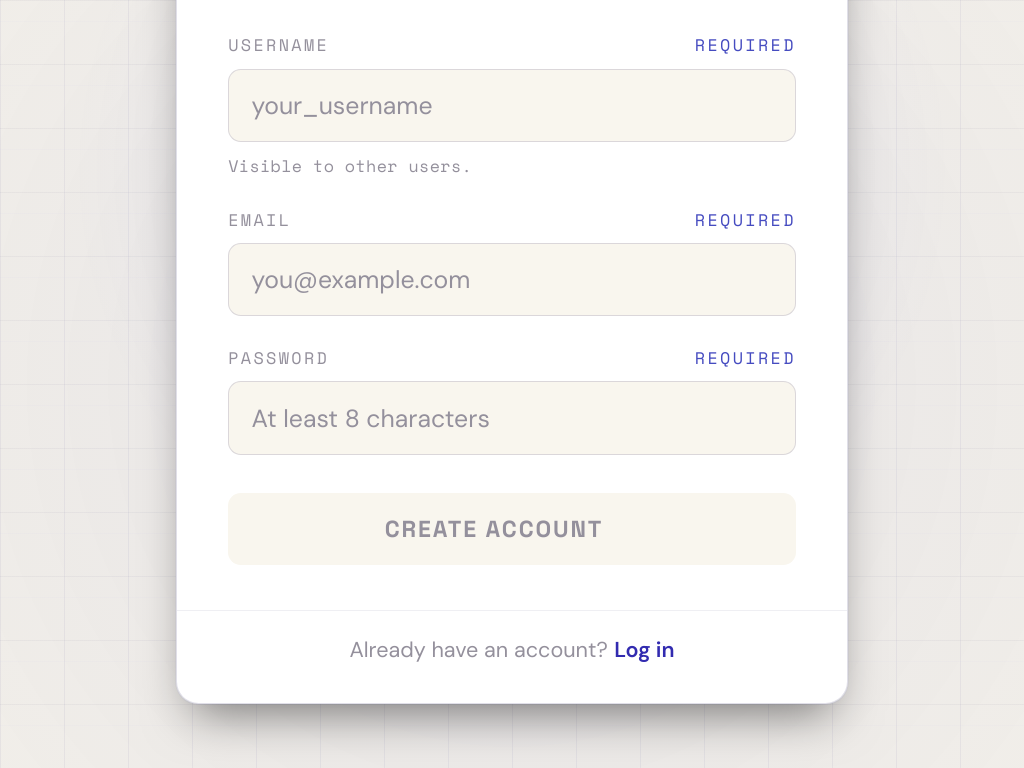
Test: shows Strong label for a strong password
This screenshot has width=1024, height=768.
(page scrolled)
In the password field with placeholder "At least 8 characters": (512, 418) [228, 382, 796, 455], type "Password1!"
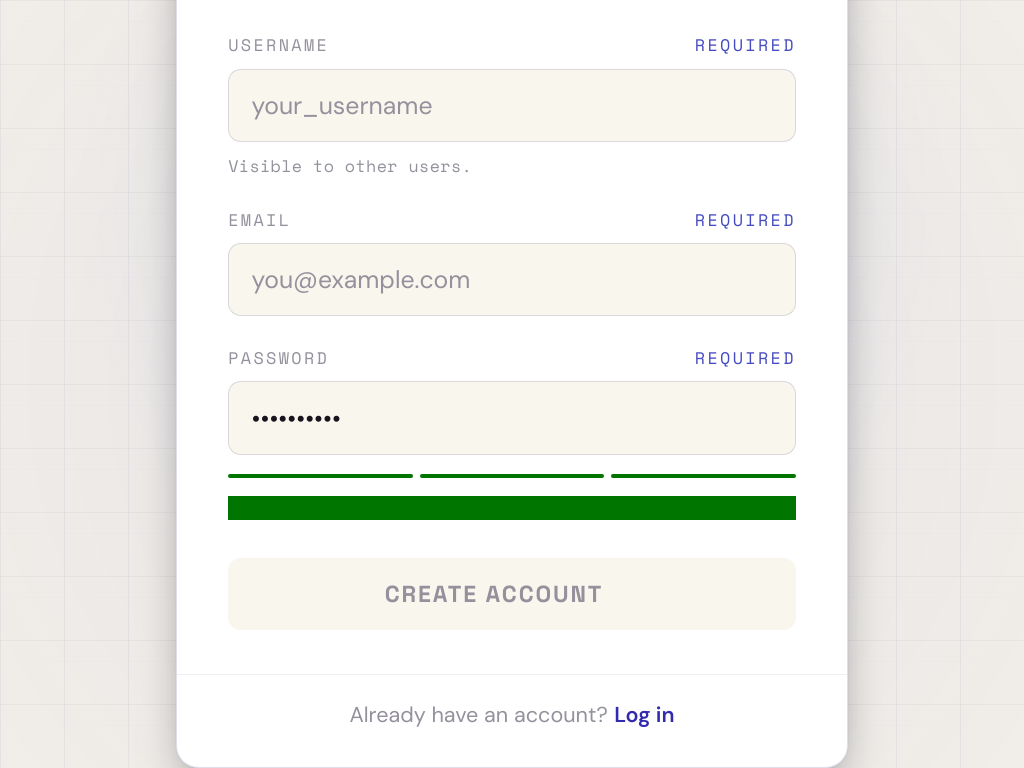
Check: the text "Password strength: Strong" is shown, box [228, 496, 796, 520]
